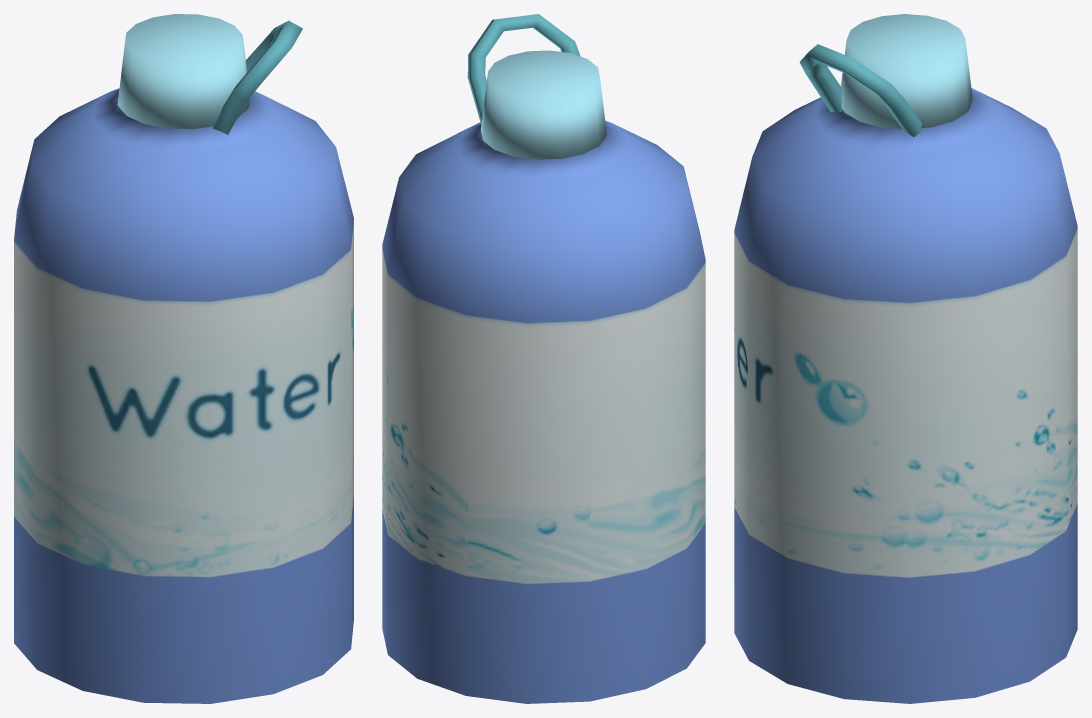
File: BlueBottle.fbx
3 views of the same model, side by side, from view 1: azimuth 30°, elevation 25°; view 2: azimuth 150°, elevation 25°; view 3: azimuth 270°, elevation 25° (orthographic). The views are drawn at different scales.
Visible parts, largest first — view 1: BlueBottle; view 2: BlueBottle; view 3: BlueBottle.
Part boxes in pixels (x1,y1,x2,y2): BlueBottle: [14, 14, 353, 703]; BlueBottle: [382, 14, 705, 703]; BlueBottle: [734, 14, 1077, 703].
Bounding box in the file's own units: 20.77 × 40.84 × 20.77.
Materials: 1 (1 with a texture image).
